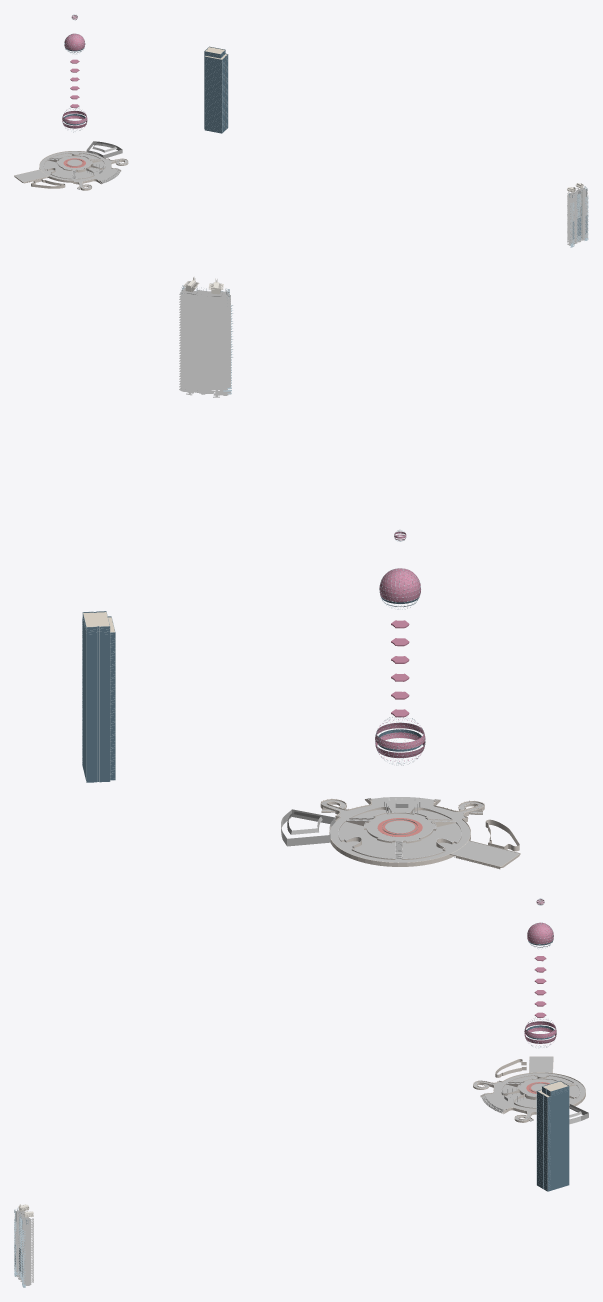
Rendered from lujiazui-4.glb.
3 renders of one model, top to bottom at view 1: azimuth 30°, elevation 25°; view 2: azimuth 150°, elevation 25°; view 3: azimuth 270°, elevation 25°, orthographic. The views are drawn at different scales.
Visible parts, largest first — view 1: source_1975_Mat3d66-1303573-2170-3213_part0, source_1956_陆家嘴中心-王-阶梯_part0, source_1958_陆家嘴中心-王-墙面01_part0, source_2034_Mat3d66-1303573-2153-4388_part0, source_1961_Mat3d66-1303573-2121-3957_part0, source_2026_Mat3d66-1303573-2119-613_part0, source_1977_Mat3d66-1303573-2110-2540_part0; view 2: source_1956_陆家嘴中心-王-阶梯_part0, source_1975_Mat3d66-1303573-2170-3213_part0, source_2034_Mat3d66-1303573-2153-4388_part0, source_1961_Mat3d66-1303573-2121-3957_part0, source_1958_陆家嘴中心-王-墙面01_part0, source_1955_Mat3d66-1303573-2110-2540_part0, source_1977_Mat3d66-1303573-2110-2540_part0, source_1960_陆家嘴中心-王-铺地04_part0; view 3: source_1975_Mat3d66-1303573-2170-3213_part0, source_1956_陆家嘴中心-王-阶梯_part0, source_1961_Mat3d66-1303573-2121-3957_part0, source_1958_陆家嘴中心-王-墙面01_part0, source_2034_Mat3d66-1303573-2153-4388_part0, source_2026_Mat3d66-1303573-2119-613_part0, source_1977_Mat3d66-1303573-2110-2540_part0.
Boxes of the visible parts, x1=… form: source_1975_Mat3d66-1303573-2170-3213_part0: x1=204, y1=46, x2=227, y2=133; source_1956_陆家嘴中心-王-阶梯_part0: x1=15, y1=151, x2=120, y2=184; source_1958_陆家嘴中心-王-墙面01_part0: x1=14, y1=151, x2=128, y2=190; source_2034_Mat3d66-1303573-2153-4388_part0: x1=567, y1=188, x2=587, y2=245; source_1961_Mat3d66-1303573-2121-3957_part0: x1=62, y1=15, x2=87, y2=128; source_2026_Mat3d66-1303573-2119-613_part0: x1=569, y1=186, x2=588, y2=247; source_1977_Mat3d66-1303573-2110-2540_part0: x1=205, y1=46, x2=228, y2=133; source_1956_陆家嘴中心-王-阶梯_part0: x1=330, y1=797, x2=519, y2=866; source_1975_Mat3d66-1303573-2170-3213_part0: x1=82, y1=611, x2=115, y2=782; source_2034_Mat3d66-1303573-2153-4388_part0: x1=179, y1=287, x2=230, y2=397; source_1961_Mat3d66-1303573-2121-3957_part0: x1=375, y1=531, x2=425, y2=757; source_1958_陆家嘴中心-王-墙面01_part0: x1=320, y1=797, x2=520, y2=869; source_1955_Mat3d66-1303573-2110-2540_part0: x1=375, y1=530, x2=425, y2=765; source_1977_Mat3d66-1303573-2110-2540_part0: x1=82, y1=611, x2=115, y2=782; source_1960_陆家嘴中心-王-铺地04_part0: x1=281, y1=809, x2=335, y2=846; source_1975_Mat3d66-1303573-2170-3213_part0: x1=537, y1=1081, x2=569, y2=1191; source_1956_陆家嘴中心-王-阶梯_part0: x1=481, y1=1057, x2=585, y2=1114; source_1961_Mat3d66-1303573-2121-3957_part0: x1=524, y1=899, x2=556, y2=1043; source_1958_陆家嘴中心-王-墙面01_part0: x1=473, y1=1056, x2=585, y2=1122; source_2034_Mat3d66-1303573-2153-4388_part0: x1=14, y1=1210, x2=33, y2=1285; source_2026_Mat3d66-1303573-2119-613_part0: x1=14, y1=1208, x2=28, y2=1287; source_1977_Mat3d66-1303573-2110-2540_part0: x1=536, y1=1080, x2=568, y2=1191.
Bounding box in the file's own units: 950 × 379 × 1008.
